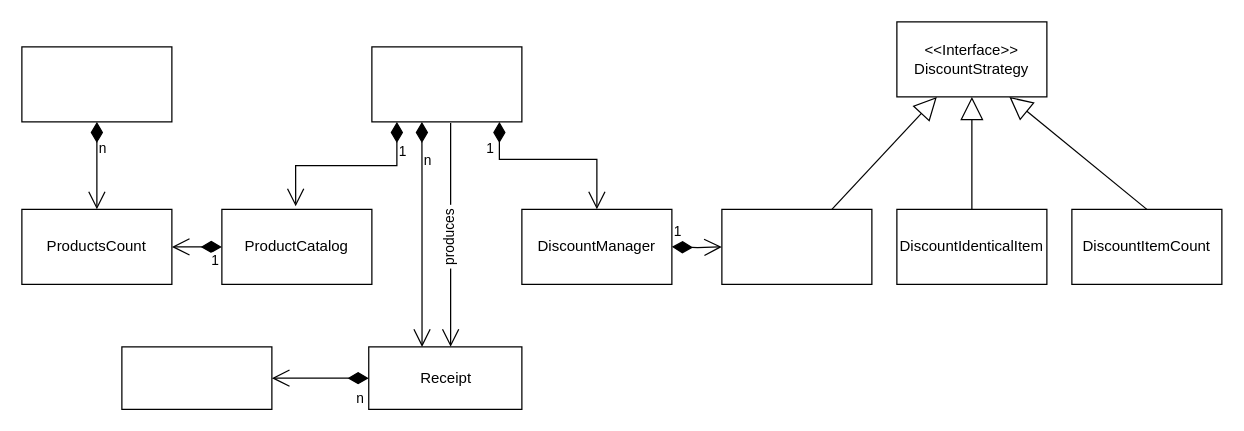
This 1244x431 diagram has some shape labels left out. The centre of each missing label's shape, as x and y in pixels:
DiscountComposite: point 796,246
Product: point 96,84
ReceiptItem: point 196,377
Supermarket: point 446,84
